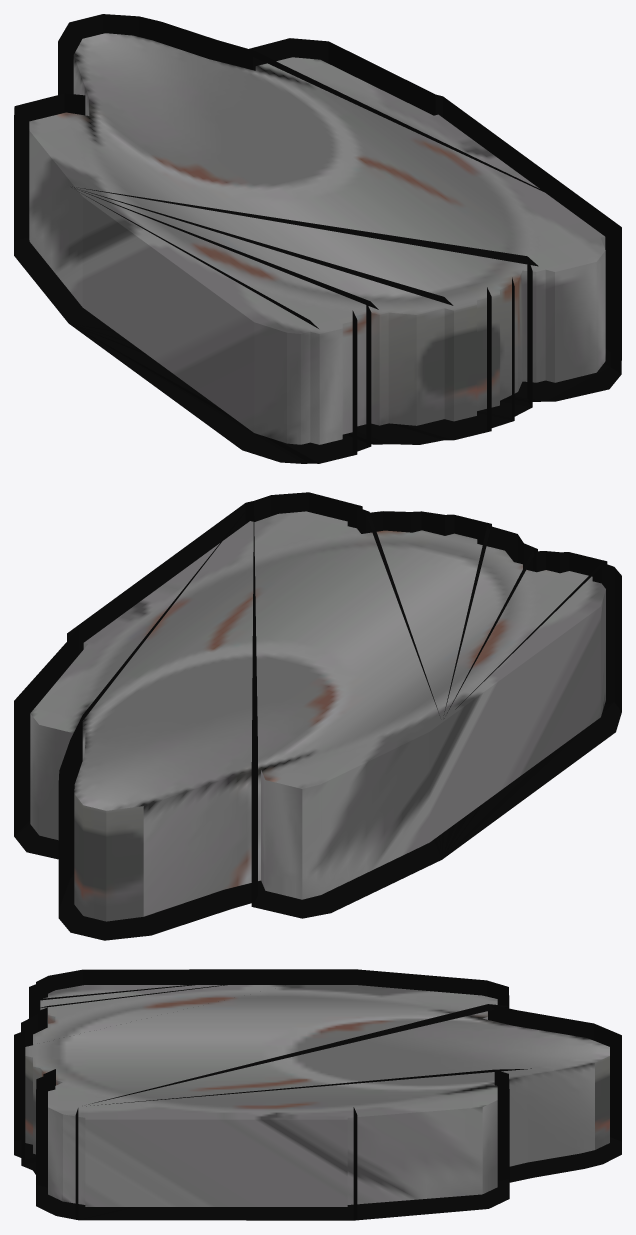
File: Building_AncientTransportPod_Things_Building_AncientLaunchPod_AncientLaunchPodA.glb
3 views of the same model, one above another, from view 1: azimuth 30°, elevation 25°; view 2: azimuth 150°, elevation 25°; view 3: azimuth 270°, elevation 25° (orthographic). The views are drawn at different scales.
Parts seen in each view (by area): view 1: Body, Outline; view 2: Body, Outline; view 3: Body, Outline.
Part boxes in pixels (left/top/right/bottom): Body: left=29, top=33, right=605, bottom=444; Outline: left=14, top=14, right=621, bottom=463; Body: left=30, top=511, right=605, bottom=921; Outline: left=14, top=492, right=621, bottom=940; Body: left=25, top=985, right=609, bottom=1206; Outline: left=14, top=969, right=621, bottom=1220.
Bounding box in the file's own units: 0.6347 × 0.2392 × 1.13.
Materials: 2 (1 with a texture image).
